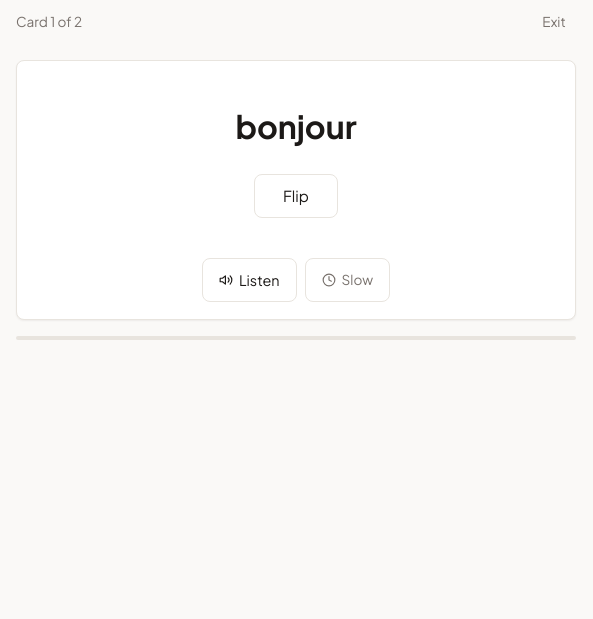
FlashcardPractice — rating failures › falls back to a generic message for a non-Error rejection
The image size is (593, 619).
Expected: the text "bonjour" is shown, [235,102,357,150]
Click the button with aria-label "Flip card".
click(296, 196)  # box [254,174,338,218]
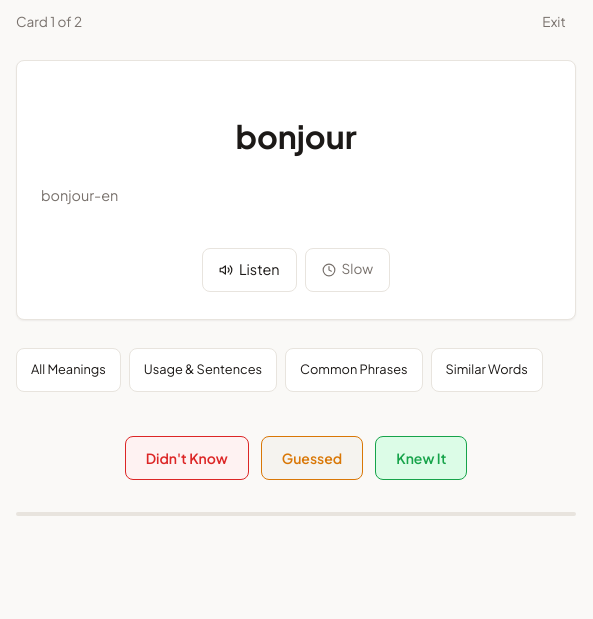
Click the button "Knew It".
click(421, 458)  # box [375,436,467,480]
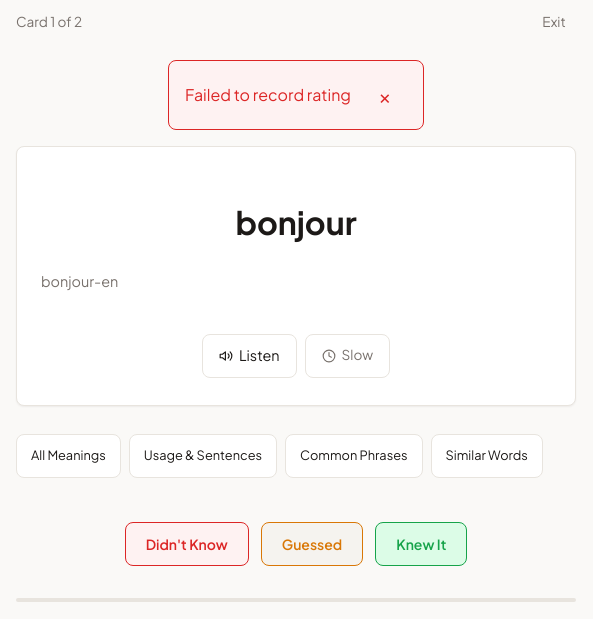
Expected: the text "Failed to record rating" is shown, [185,83,351,107]
